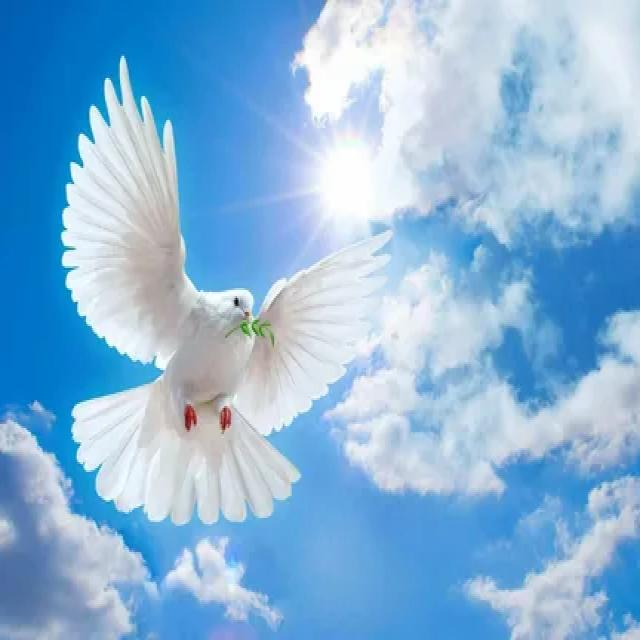pigeon: (50, 40, 398, 540)
